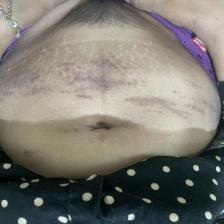Dermatitis kontak iritan: (57, 49, 140, 101), (13, 66, 53, 100), (172, 80, 206, 106)
